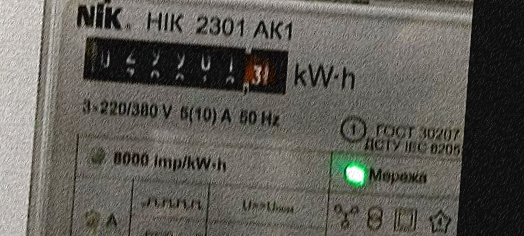0: (197, 46, 214, 72), (96, 45, 113, 68)
1: (224, 48, 238, 73)
2: (123, 42, 139, 65)
3: (248, 62, 265, 86)
9: (173, 47, 187, 70), (149, 44, 162, 66)
screen: (74, 27, 299, 104)
